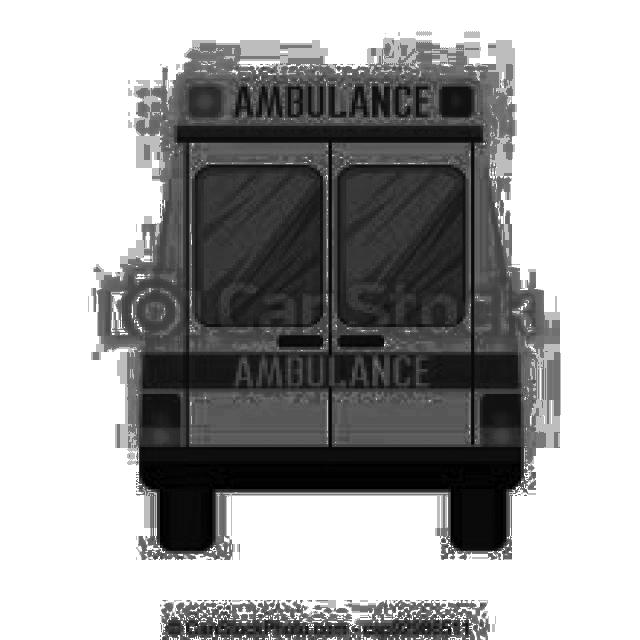LCV: (139, 65, 522, 483)
